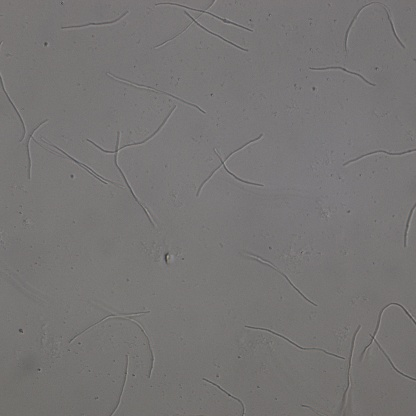Sensitive: (86, 103, 178, 227), (153, 1, 253, 51), (360, 302, 416, 381), (243, 250, 317, 306), (199, 132, 264, 195), (43, 139, 120, 188), (244, 326, 343, 359), (343, 1, 406, 52), (341, 324, 361, 414), (1, 76, 27, 144), (202, 379, 246, 416), (310, 64, 375, 89), (108, 354, 132, 416), (61, 9, 128, 31), (25, 120, 49, 180), (344, 146, 416, 165), (402, 203, 416, 246)
